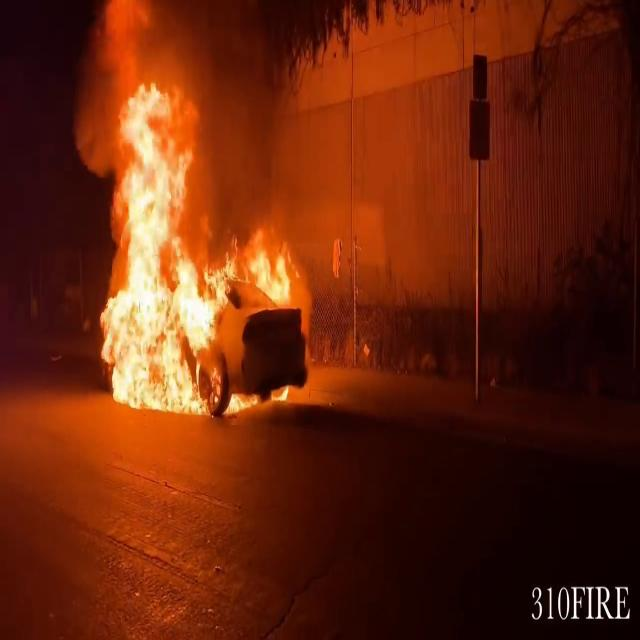Fire: (74, 63, 297, 421)
